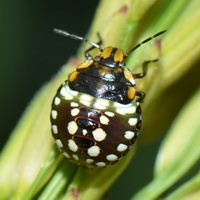insect: (51, 28, 165, 166)
